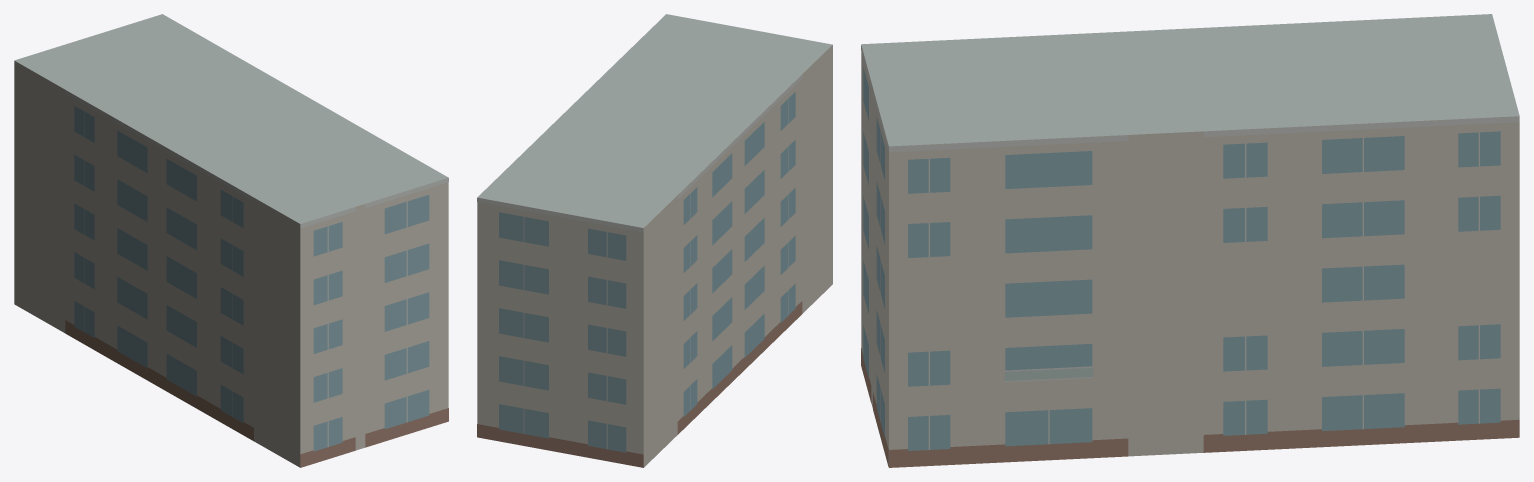
The model's file is survey-upis-32612440.glb.
The picture shows the model from 3 angles, left to right: view 1: azimuth 30°, elevation 25°; view 2: azimuth 150°, elevation 25°; view 3: azimuth 270°, elevation 25°; orthographic projection. The views are drawn at different scales.
Visible parts, largest first — view 1: survey-upis-32612440.tmp; view 2: survey-upis-32612440.tmp; view 3: survey-upis-32612440.tmp.
Boxes of the visible parts, left/top/right/bottom form: survey-upis-32612440.tmp: left=14, top=14, right=448, bottom=467; survey-upis-32612440.tmp: left=477, top=14, right=832, bottom=467; survey-upis-32612440.tmp: left=861, top=14, right=1519, bottom=467.
Size of the model in its own units: 11.76 by 13.3 by 24.71.
